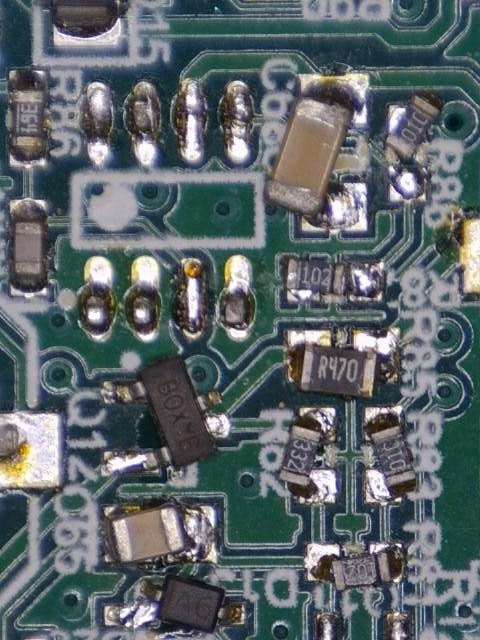pcb_defect: (262, 73, 369, 233), (101, 355, 229, 478), (102, 573, 246, 635), (282, 326, 401, 400), (102, 499, 218, 567), (383, 92, 443, 204), (277, 406, 338, 507), (363, 405, 417, 506), (284, 256, 384, 305), (306, 542, 403, 592)
